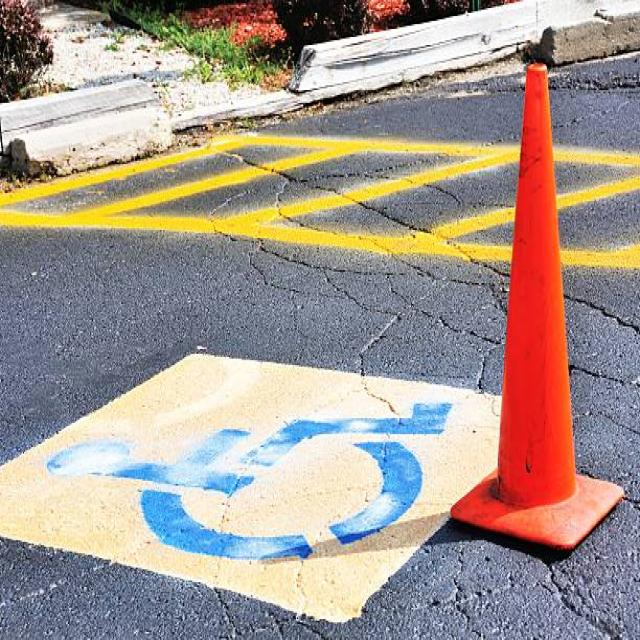Traffic Cone: (432, 39, 633, 570)
